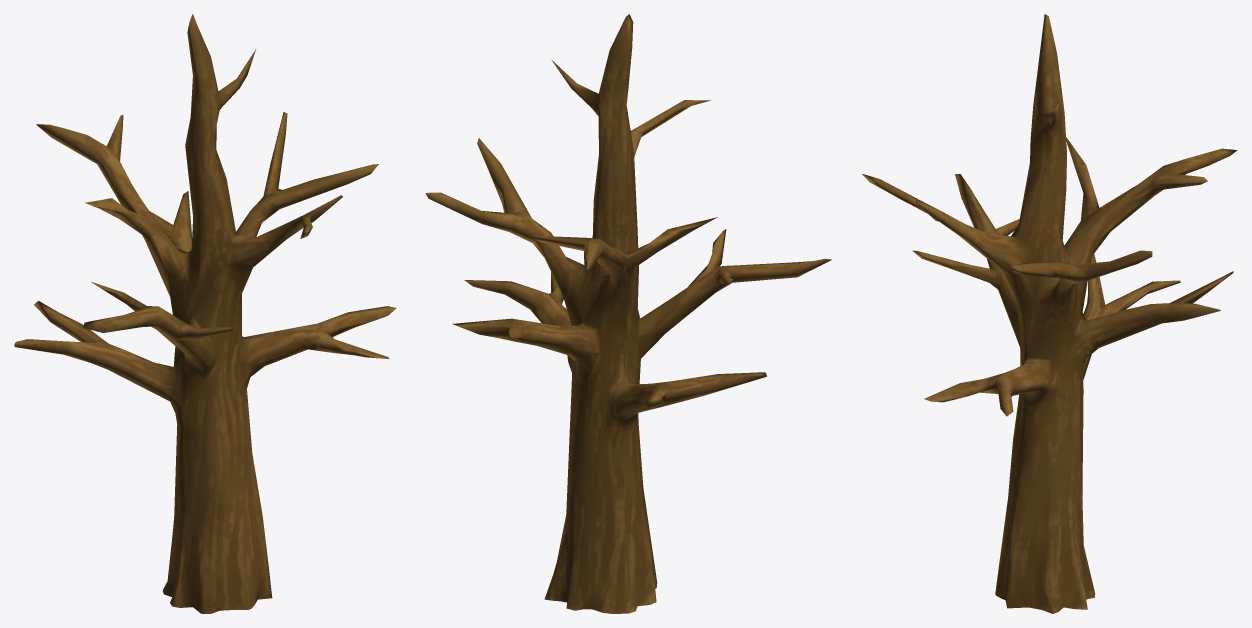
Rendered from Nature_tree03b.fbx.
3 views of the same model, side by side, from view 1: azimuth 30°, elevation 25°; view 2: azimuth 150°, elevation 25°; view 3: azimuth 270°, elevation 25° (orthographic). The views are drawn at different scales.
Parts seen in each view (by area): view 1: Nature_tree003b; view 2: Nature_tree003b; view 3: Nature_tree003b.
Boxes of the visible parts, bbox=[...] form: Nature_tree003b: bbox=[14, 14, 396, 613]; Nature_tree003b: bbox=[425, 14, 831, 613]; Nature_tree003b: bbox=[862, 14, 1237, 613].
Bounding box in the file's own units: 2.18 × 3.56 × 2.15.
